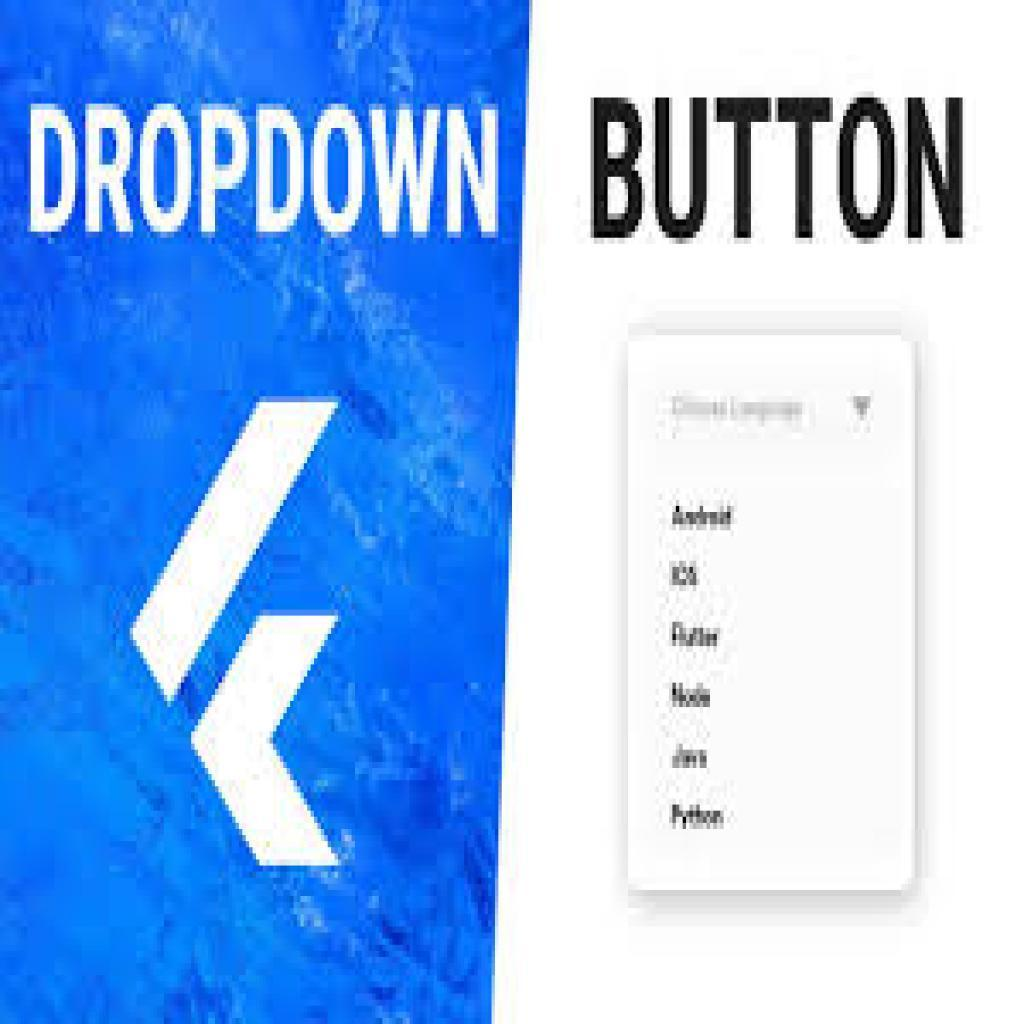dropdown: (625, 339, 916, 472)
